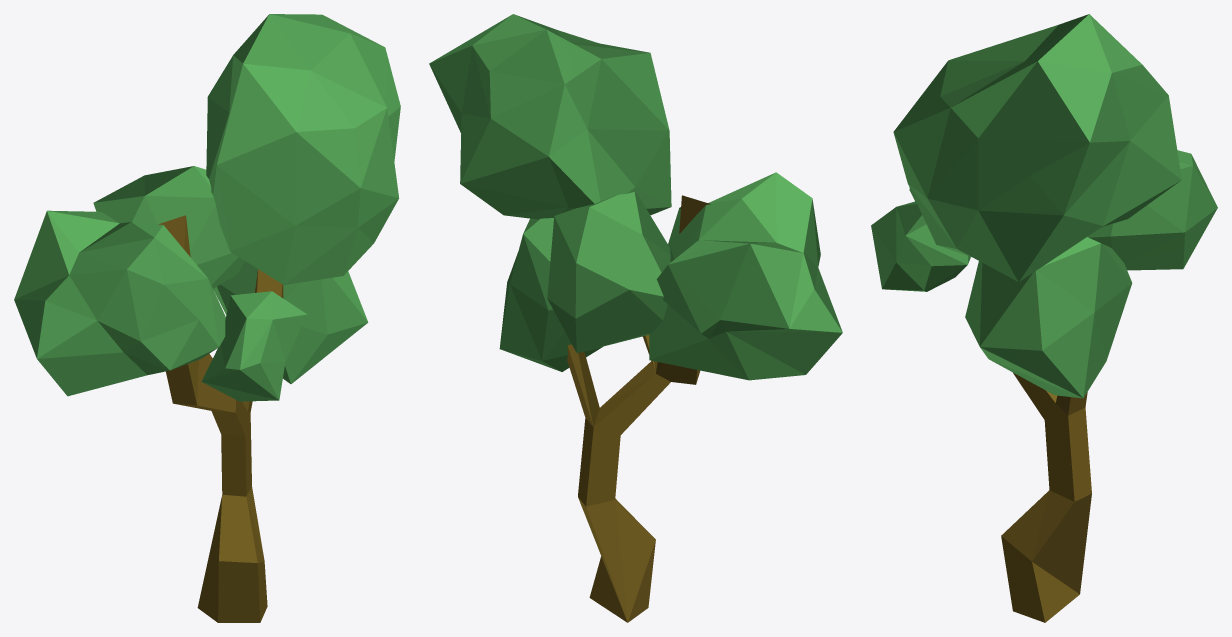
Rendered from shu1.FBX.
3 views of the same model, side by side, from view 1: azimuth 30°, elevation 25°; view 2: azimuth 150°, elevation 25°; view 3: azimuth 270°, elevation 25° (orthographic). The views are drawn at different scales.
Parts seen in each view (by area): view 1: Object256, Line003; view 2: Object256, Line003; view 3: Object256, Line003.
Part boxes in pixels (box(x1,y1,x2,y2)): Object256: box(14, 14, 400, 401); Line003: box(158, 215, 283, 622); Object256: box(429, 14, 842, 380); Line003: box(567, 195, 710, 622); Object256: box(871, 14, 1217, 398); Line003: box(1001, 372, 1091, 622).
Bounding box in the file's own units: 2.7 × 3.9 × 1.98.
